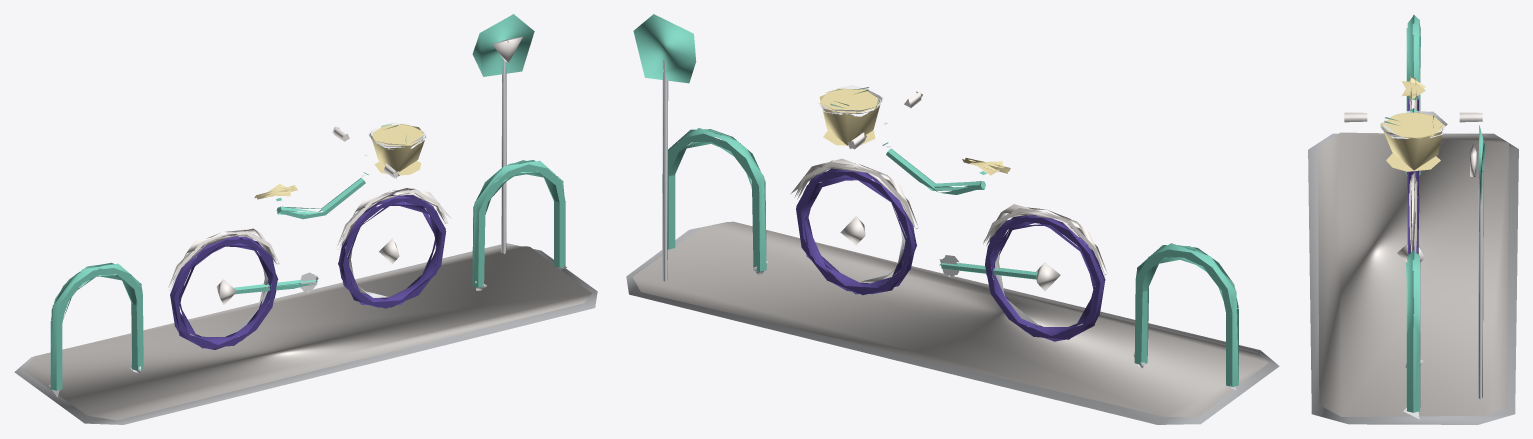
File: lod_bike_rack.glb
The picture shows the model from 3 angles, left to right: view 1: azimuth 30°, elevation 25°; view 2: azimuth 150°, elevation 25°; view 3: azimuth 270°, elevation 25°; orthographic projection. The views are drawn at different scales.
Parts seen in each view (by area): view 1: bike_rack; view 2: bike_rack; view 3: bike_rack.
Part boxes in pixels (<box>): bike_rack: <box>14,14,597,424</box>; bike_rack: <box>626,14,1279,424</box>; bike_rack: <box>1308,14,1518,424</box>.
Size of the model in its own units: 3.58 by 1.59 by 1.1.
